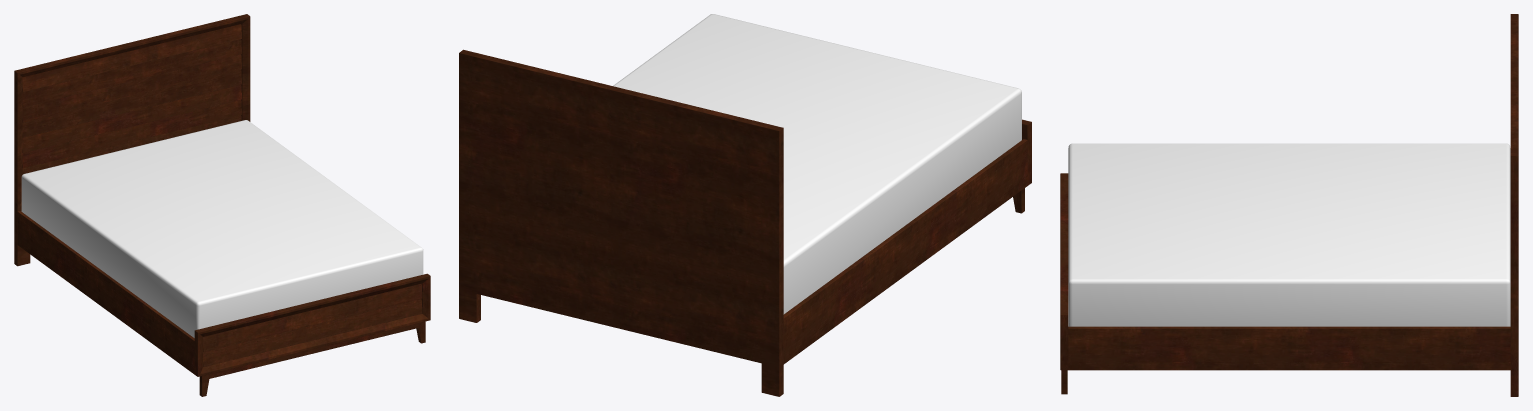
Rendered from ventura_louvered_queen_bed.glb.
The picture shows the model from 3 angles, left to right: view 1: azimuth 30°, elevation 25°; view 2: azimuth 150°, elevation 25°; view 3: azimuth 270°, elevation 25°; orthographic projection. The views are drawn at different scales.
Parts seen in each view (by area): view 1: B072PWGSZL; view 2: B072PWGSZL; view 3: B072PWGSZL.
Boxes of the visible parts, left/top/right/bottom form: B072PWGSZL: left=14, top=14, right=430, bottom=396; B072PWGSZL: left=459, top=14, right=1031, bottom=396; B072PWGSZL: left=1060, top=14, right=1518, bottom=396.
Bounding box in the file's own units: 1.6 × 1.27 × 2.18.
1 material, 1 textured.
